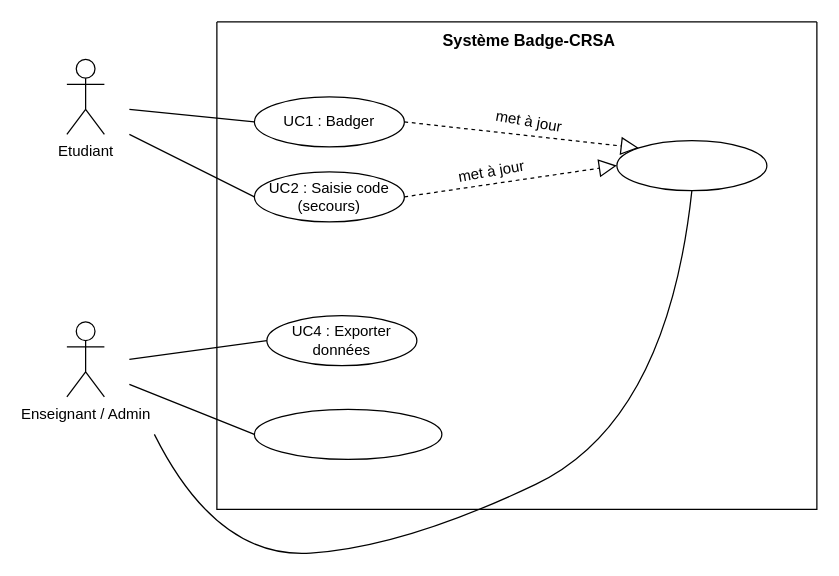
The diagram is 839 pixels wide and 576 high, and some of its shapes have lost their labels. The centre of each missing label's shape, as x and y in pixels:
"UC3 : Consulter rapport" belongs at point (691, 165).
"UC5 : Gérer comptes étudiants" belongs at point (347, 433).
